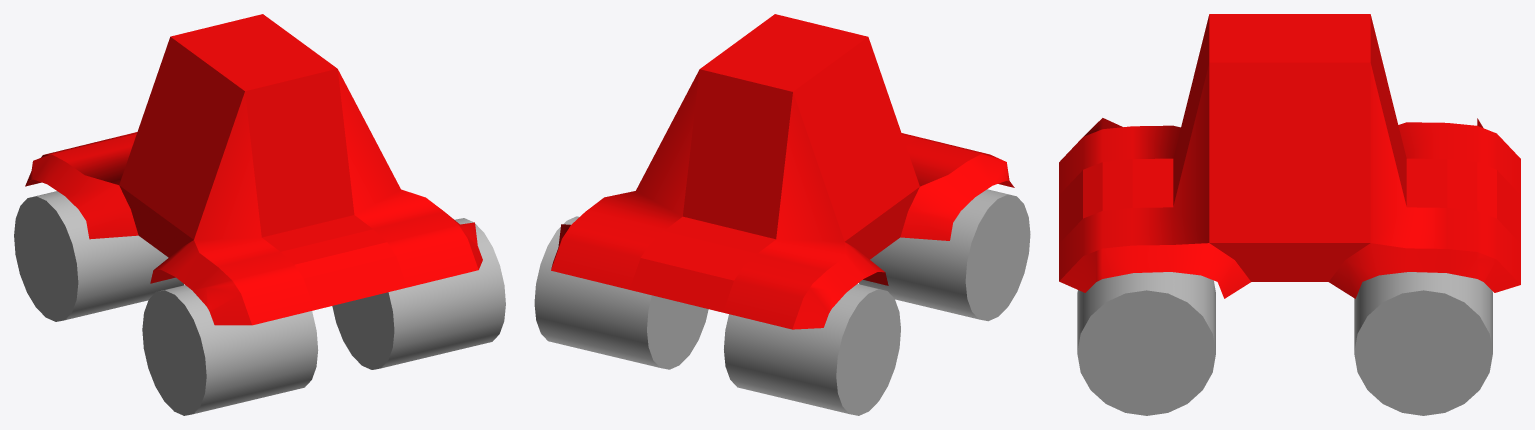
File: frankie_ford.glb
3 views of the same model, side by side, from view 1: azimuth 30°, elevation 25°; view 2: azimuth 150°, elevation 25°; view 3: azimuth 270°, elevation 25° (orthographic). The views are drawn at different scales.
Parts seen in each view (by area): view 1: Car_Body, pCylinder2, pCylinder1, pCylinder4; view 2: Car_Body, pCylinder1, pCylinder2, pCylinder5; view 3: Car_Body, pCylinder5, pCylinder4.
Boxes of the visible parts, bbox=[...] form: Car_Body: bbox=[25, 14, 482, 325]; pCylinder2: bbox=[142, 285, 318, 415]; pCylinder1: bbox=[14, 191, 183, 321]; pCylinder4: bbox=[332, 218, 505, 369]; Car_Body: bbox=[551, 14, 1014, 329]; pCylinder1: bbox=[724, 284, 900, 415]; pCylinder2: bbox=[859, 189, 1030, 321]; pCylinder5: bbox=[534, 216, 708, 369]; Car_Body: bbox=[1059, 14, 1520, 298]; pCylinder5: bbox=[1354, 272, 1492, 415]; pCylinder4: bbox=[1077, 272, 1215, 415].
Bounding box in the file's own units: 53.79 × 47.18 × 66.49.
